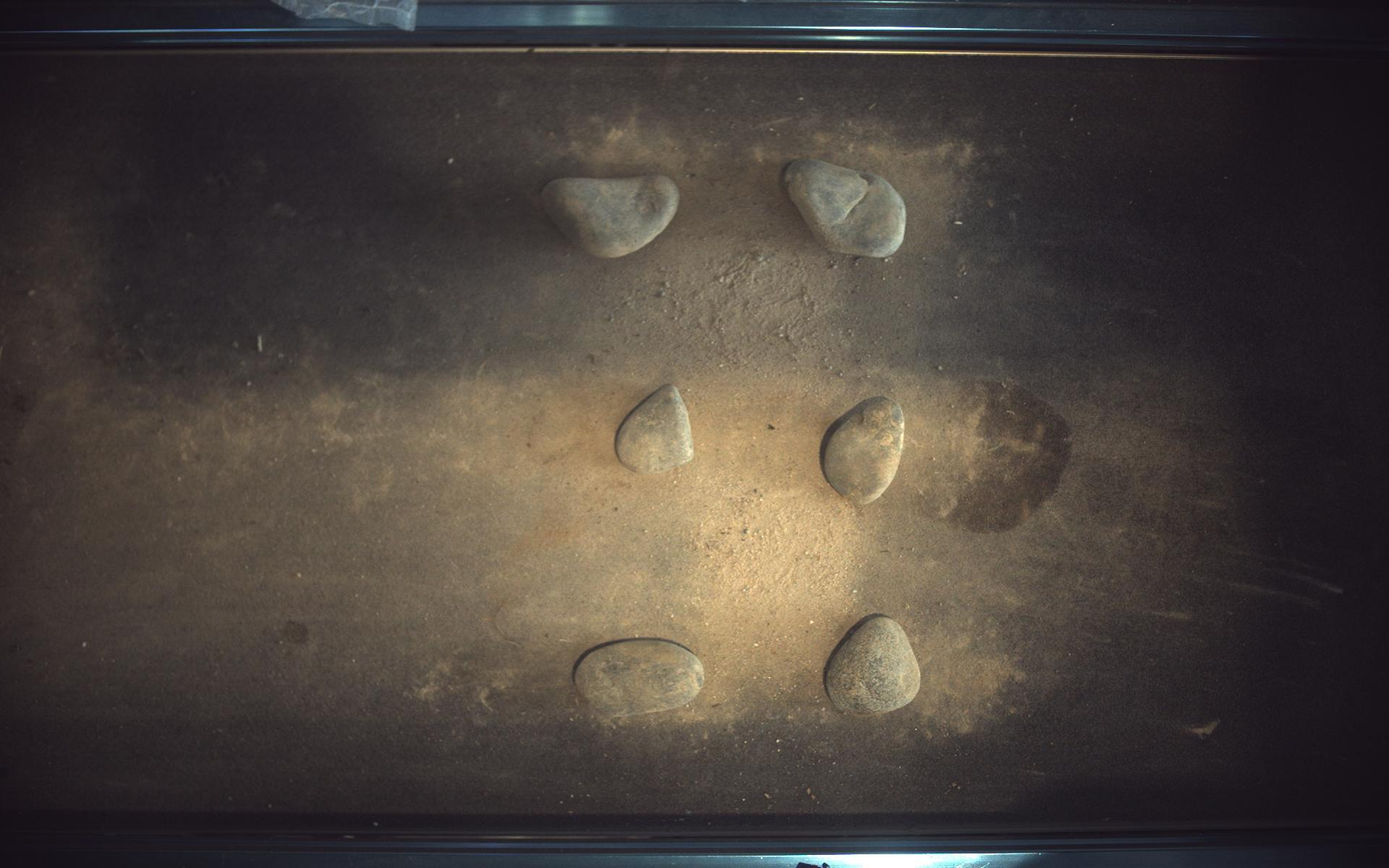stone: (785, 158, 908, 257), (542, 174, 680, 258), (575, 639, 705, 718), (826, 616, 922, 715), (825, 396, 906, 505), (616, 384, 695, 475)
